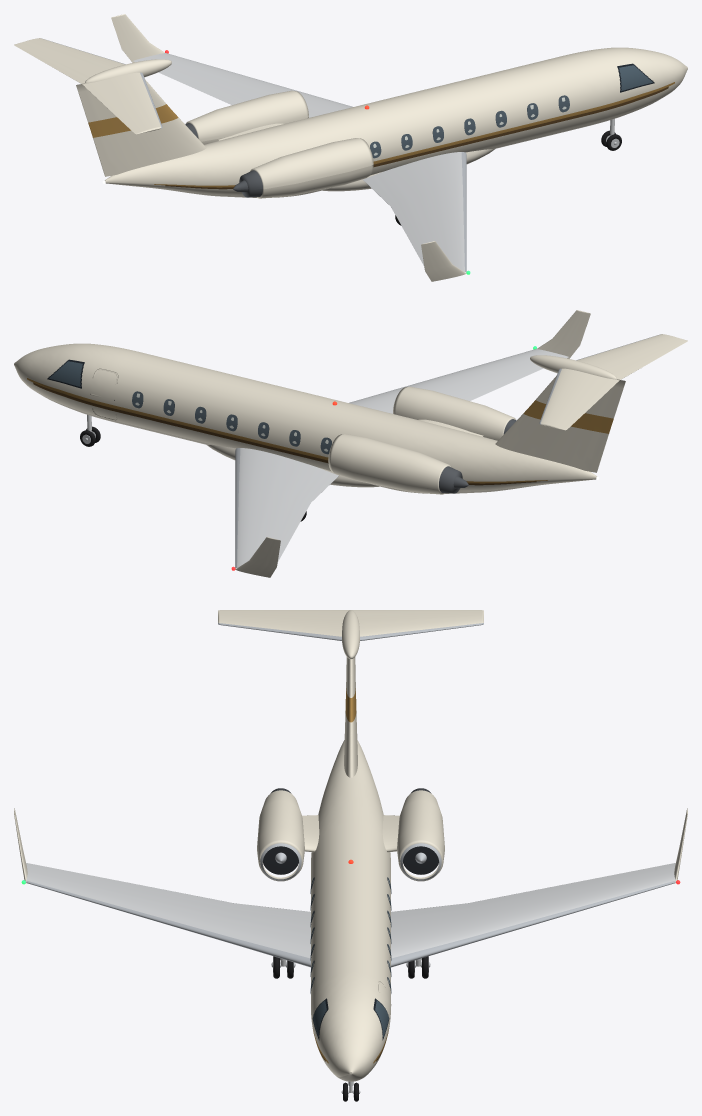
File: bizjet.glb
3 renders of one model, top to bottom at view 1: azimuth 30°, elevation 25°; view 2: azimuth 150°, elevation 25°; view 3: azimuth 270°, elevation 25°, orthographic. The views are drawn at different scales.
Parts seen in each view (by area): view 1: fuselage, wing_r, fin, engine_r_nacelle, wing_l, engine_l_nacelle, tailplane_r, tailplane_l, winglet_l, cabin_windows_dark, cabin_window_glass, winglet_r (+5 smaller); view 2: fuselage, wing_l, fin, engine_l_nacelle, wing_r, engine_r_nacelle, tailplane_l, tailplane_r, winglet_r, cabin_windows_dark, cabin_window_glass, winglet_l (+5 smaller); view 3: fuselage, wing_r, wing_l, tailplane_r, tailplane_l, engine_r_nacelle, engine_l_nacelle, fin, tail_bullet.
Part boxes in pixels (x1,y1,x2,y2): fuselage: (105,47,687,197); wing_r: (363,152,466,272); fin: (76,79,206,176); engine_r_nacelle: (250,138,373,198); wing_l: (133,53,352,117); engine_l_nacelle: (186,90,308,144); tailplane_r: (82,72,162,134); tailplane_l: (14,38,125,83); winglet_l: (111,14,164,62); cabin_windows_dark: (370,95,569,158); cabin_window_glass: (370,95,569,157); winglet_r: (421,241,466,281); fuselage: (14,343,596,493); wing_l: (235,448,338,568); fin: (495,375,625,472); engine_l_nacelle: (328,434,451,494); wing_r: (349,349,568,413); engine_r_nacelle: (393,386,515,440); tailplane_l: (539,368,619,430); tailplane_r: (576,334,687,379); winglet_r: (537,310,590,358); cabin_windows_dark: (132,391,331,454); cabin_window_glass: (132,391,331,453); winglet_l: (235,537,280,577); fuselage: (311,740,390,1081); wing_r: (26,863,310,967); wing_l: (391,863,675,967); tailplane_r: (218,610,350,640); tailplane_l: (351,610,483,640); engine_r_nacelle: (257,790,304,881); engine_l_nacelle: (397,790,444,881); fin: (344,657,357,777); tail_bullet: (342,610,359,659).
Size of the model in its own units: 21.05 by 6.62 by 18.48.
